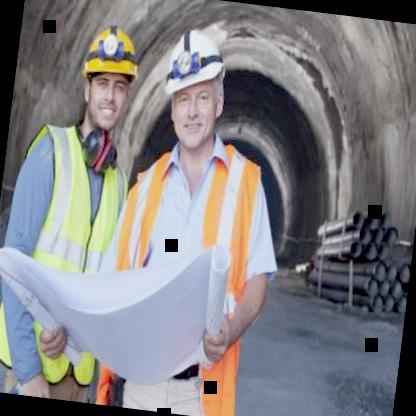helmet: (150, 18, 236, 161), (69, 16, 148, 146)
